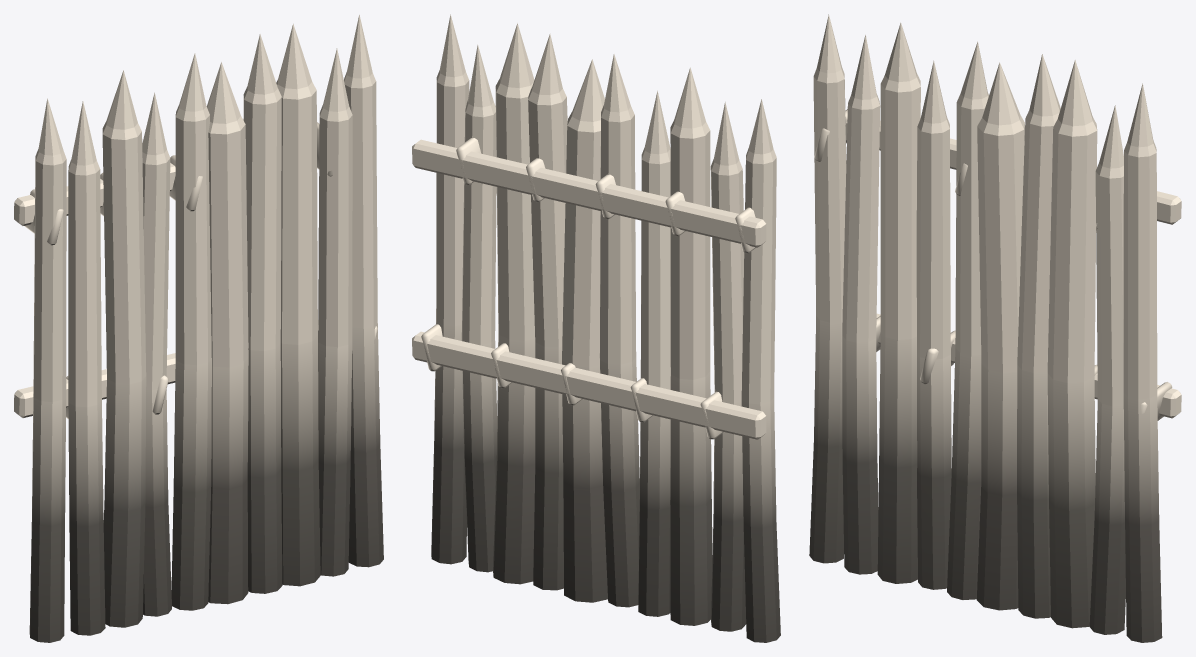
The model's file is SM_VK_Palisade_Straight.fbx.
The picture shows the model from 3 angles, left to right: view 1: azimuth 30°, elevation 25°; view 2: azimuth 150°, elevation 25°; view 3: azimuth 330°, elevation 25°; orthographic projection.
Parts seen in each view (by area): view 1: SM_VK_Palisade_Straight.001; view 2: SM_VK_Palisade_Straight.001; view 3: SM_VK_Palisade_Straight.001.
Boxes of the visible parts, x1,y1,x2,y2 form: SM_VK_Palisade_Straight.001: [14, 14, 383, 642]; SM_VK_Palisade_Straight.001: [412, 14, 780, 642]; SM_VK_Palisade_Straight.001: [809, 14, 1181, 642].
Size of the model in its own units: 3 by 4.54 by 0.4954.
